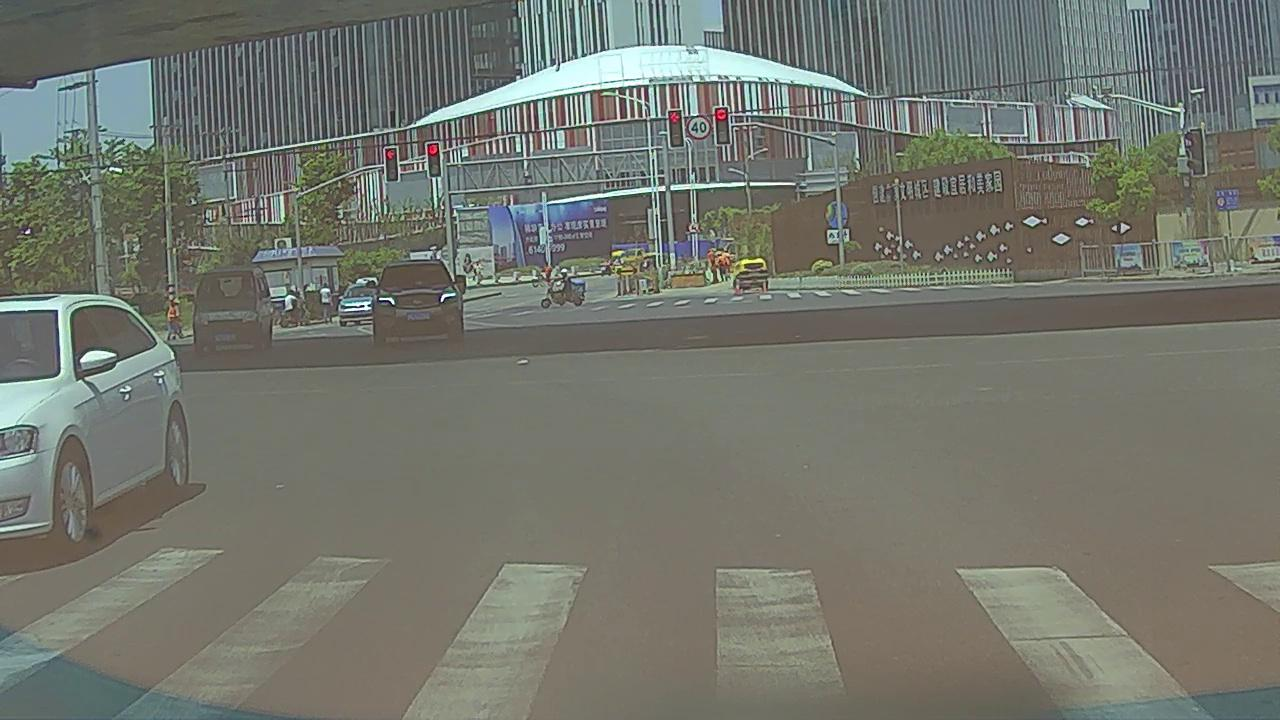traffic_light: (712, 106, 731, 146), (384, 149, 399, 184), (669, 111, 683, 148), (427, 144, 440, 178)
